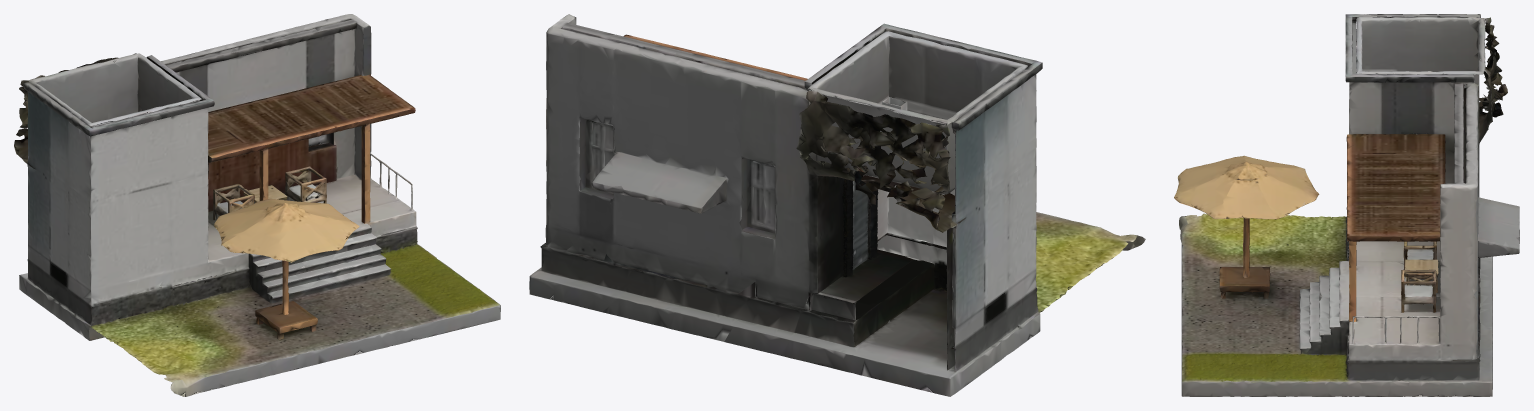
The model's file is abbassia-mental-health-hospital-2.glb.
The picture shows the model from 3 angles, left to right: view 1: azimuth 30°, elevation 25°; view 2: azimuth 150°, elevation 25°; view 3: azimuth 270°, elevation 25°; orthographic projection. The views are drawn at different scales.
Size of the model in its own units: 1 by 0.6121 by 0.8809.
Materials: 1 (1 with a texture image).
